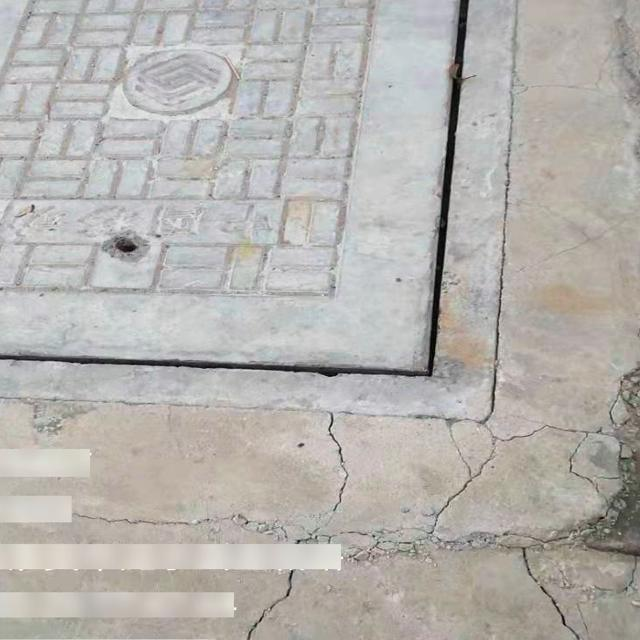good: (0, 0, 521, 419)
